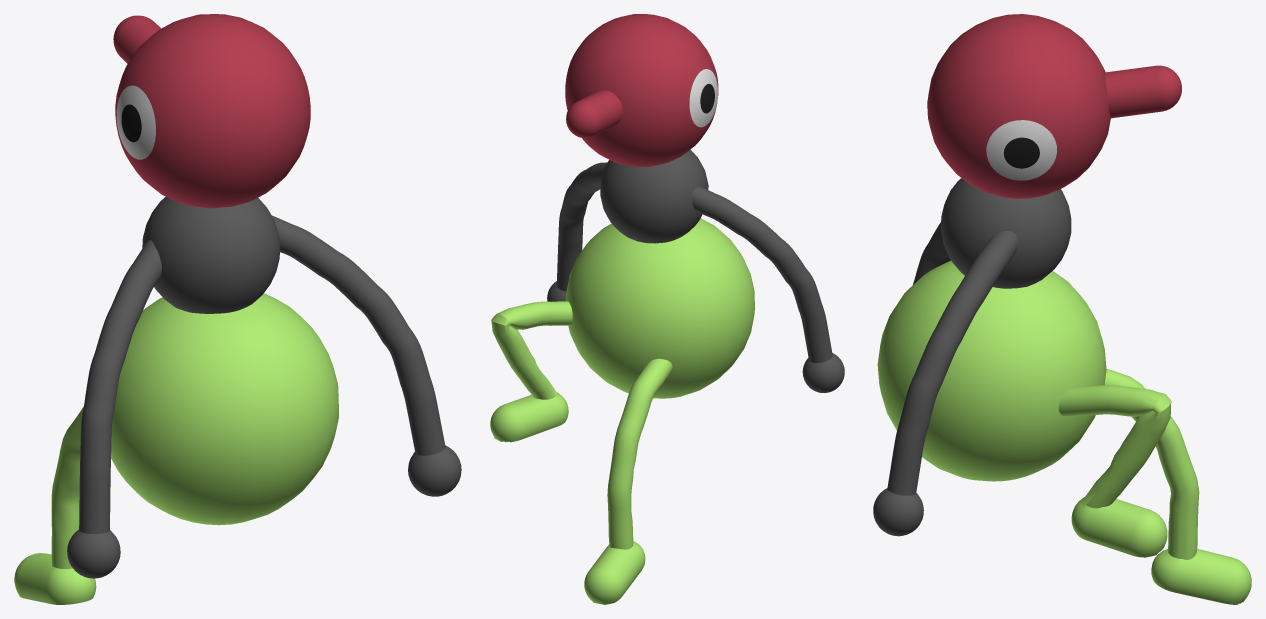
File: BigWalkSeated.fbx
3 views of the same model, side by side, from view 1: azimuth 30°, elevation 25°; view 2: azimuth 150°, elevation 25°; view 3: azimuth 270°, elevation 25° (orthographic). The views are drawn at different scales.
Parts seen in each view (by area): view 1: Cylinder.006; view 2: Cylinder.006; view 3: Cylinder.006.
Boxes of the visible parts, x1,y1,x2,y2 form: Cylinder.006: (14, 14, 461, 604); Cylinder.006: (490, 14, 844, 604); Cylinder.006: (873, 14, 1251, 604).
Size of the model in its own units: 0.8088 by 0.8858 by 1.43.
